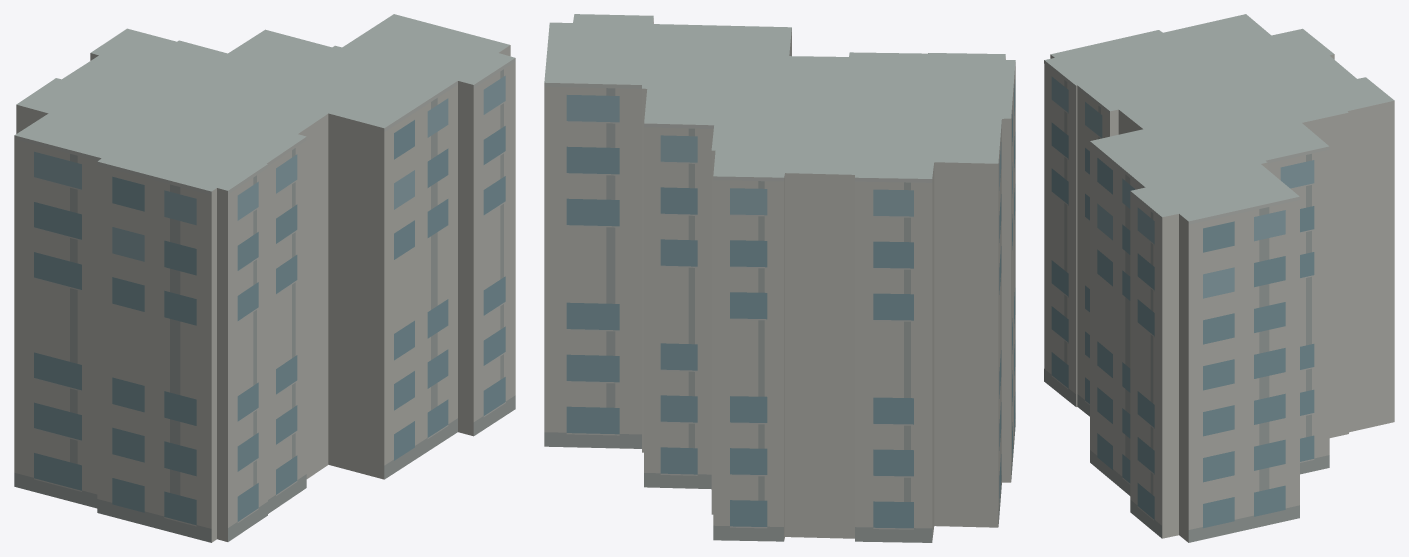
File: survey-upis-32676296.glb
The picture shows the model from 3 angles, left to right: view 1: azimuth 30°, elevation 25°; view 2: azimuth 150°, elevation 25°; view 3: azimuth 270°, elevation 25°; orthographic projection. The views are drawn at different scales.
Parts seen in each view (by area): view 1: survey-upis-32676296.tmp; view 2: survey-upis-32676296.tmp; view 3: survey-upis-32676296.tmp.
Boxes of the visible parts, left/top/right/bottom form: survey-upis-32676296.tmp: left=14, top=14, right=515, bottom=542; survey-upis-32676296.tmp: left=544, top=14, right=1015, bottom=542; survey-upis-32676296.tmp: left=1044, top=14, right=1394, bottom=542.
Size of the model in its own units: 31.6 by 22.82 by 22.56.
